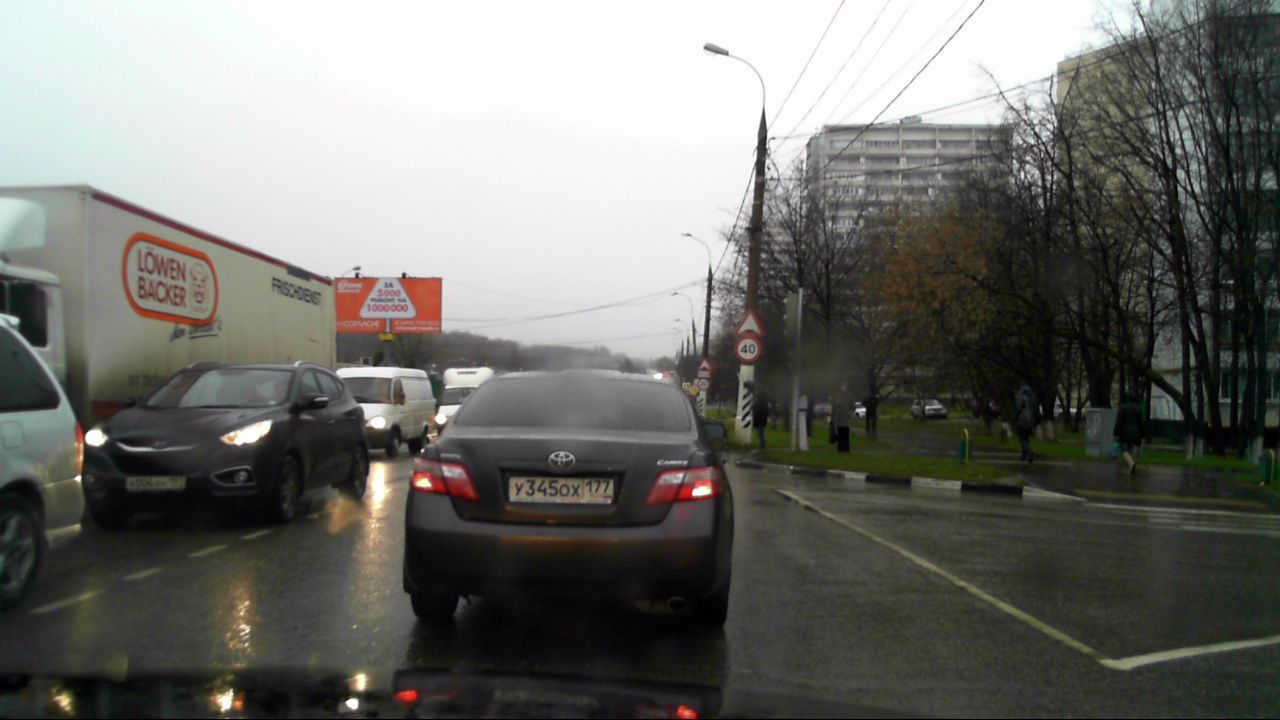speed_warning_40: (736, 337, 759, 360)
